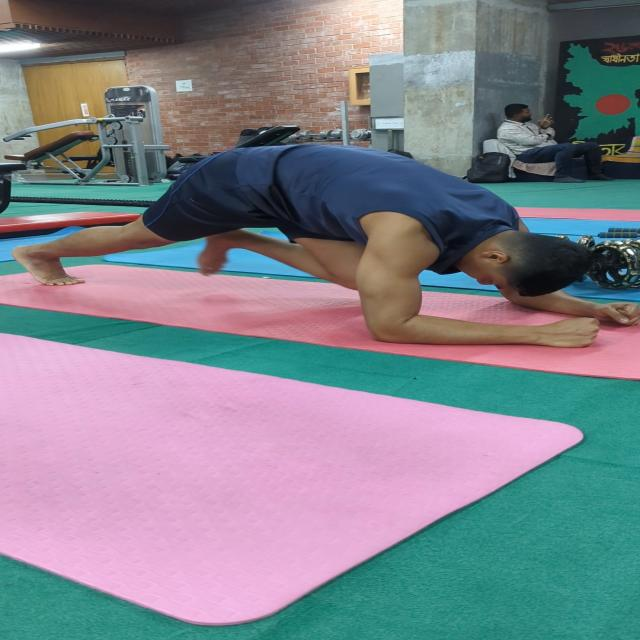Normal_MountainClimbers: (31, 122, 640, 344)
